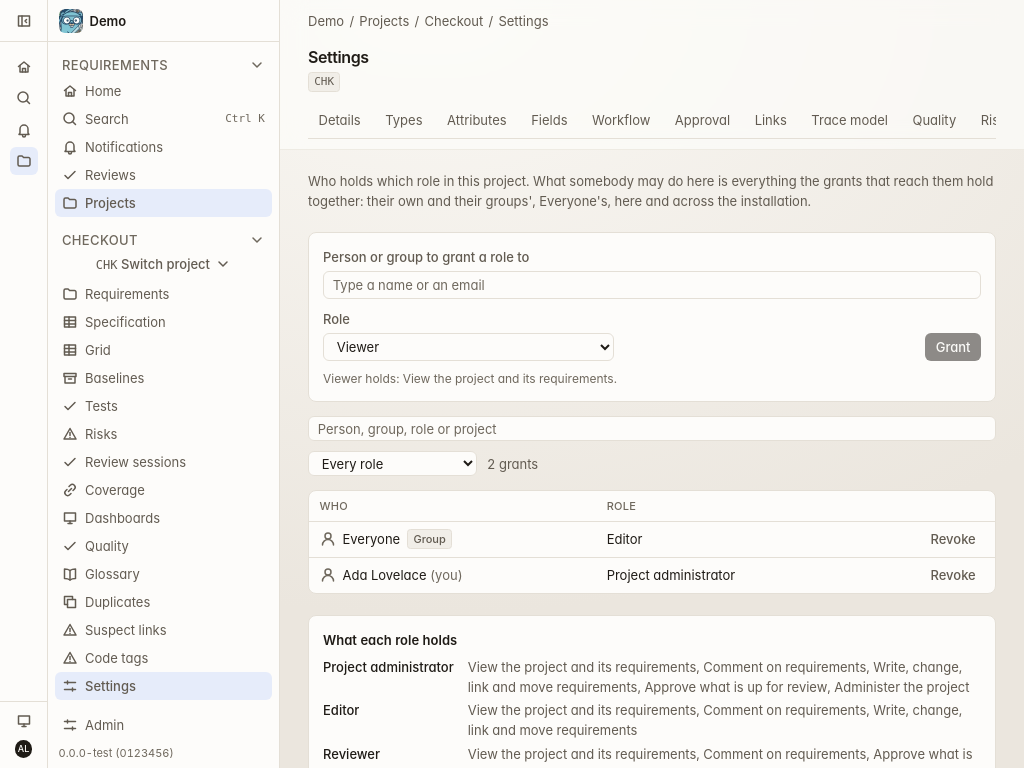
Test: a project's permissions › shows the server's refusal to take the last grant that runs the project
The width and height of the screenshot is (1024, 768).
Click the button with aria-label "Revoke Editor from Everyone" at [953, 539], box [922,527,984,552]
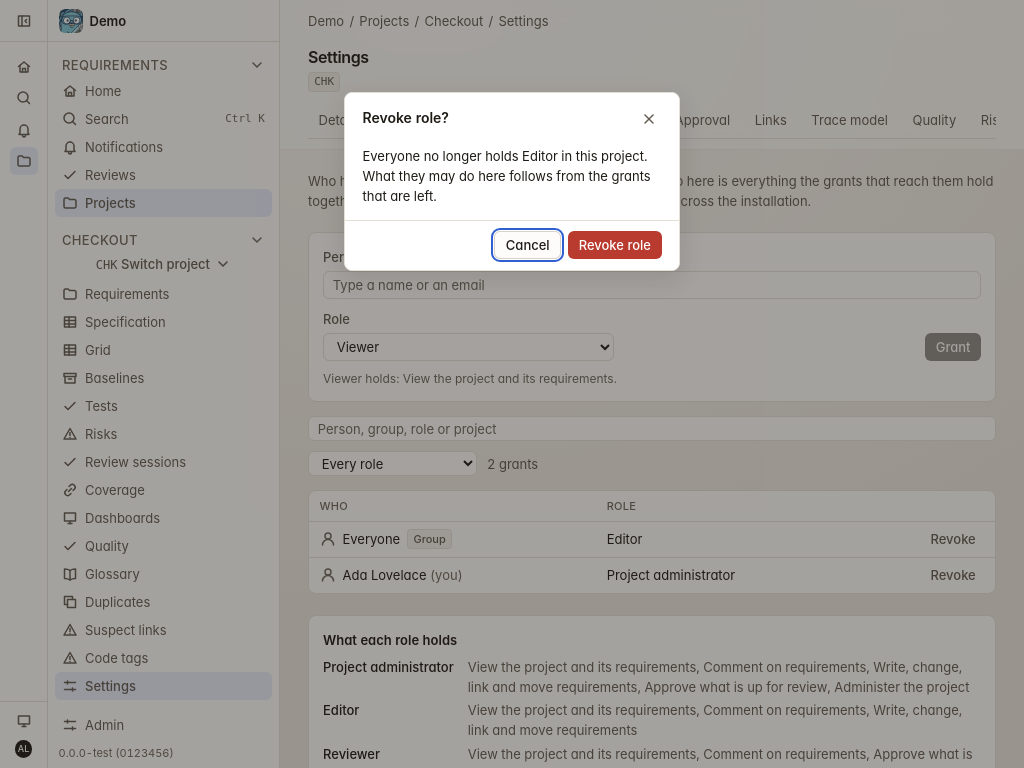
Result: the dialog is shown at [344,92,680,271]
Click the button "Revoke role" at [615, 245], box [568,231,662,259]
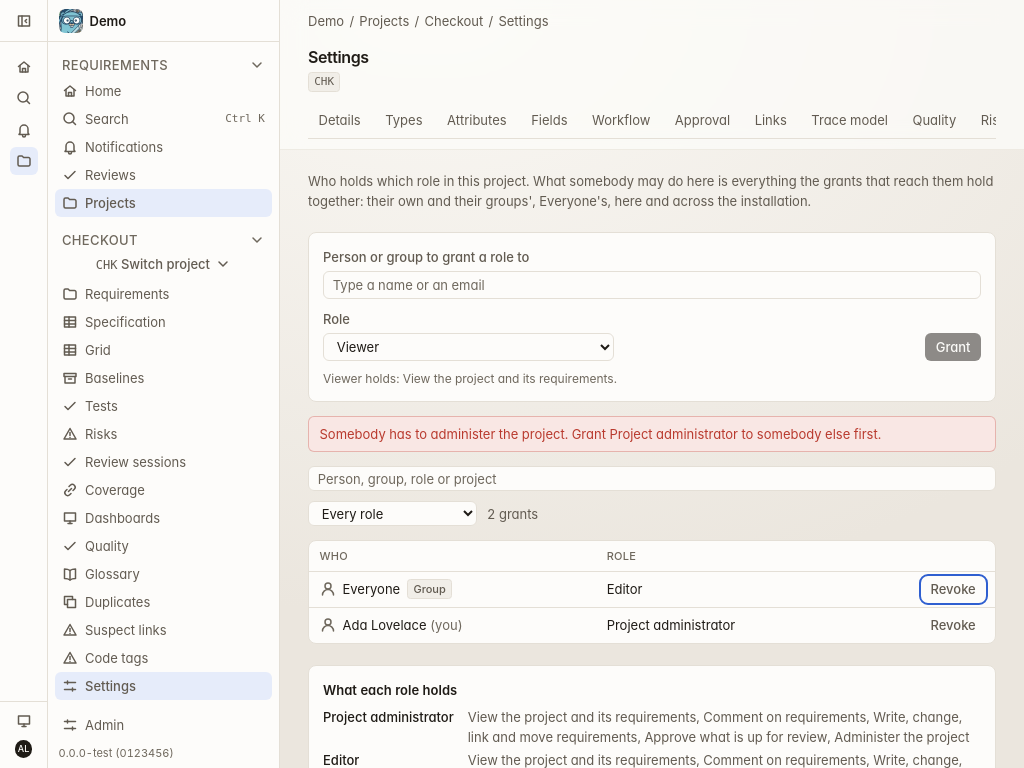
Result: the text "Somebody has to administer the project. Grant Project administrator to somebody else first." is shown at [320,426,881,442]
